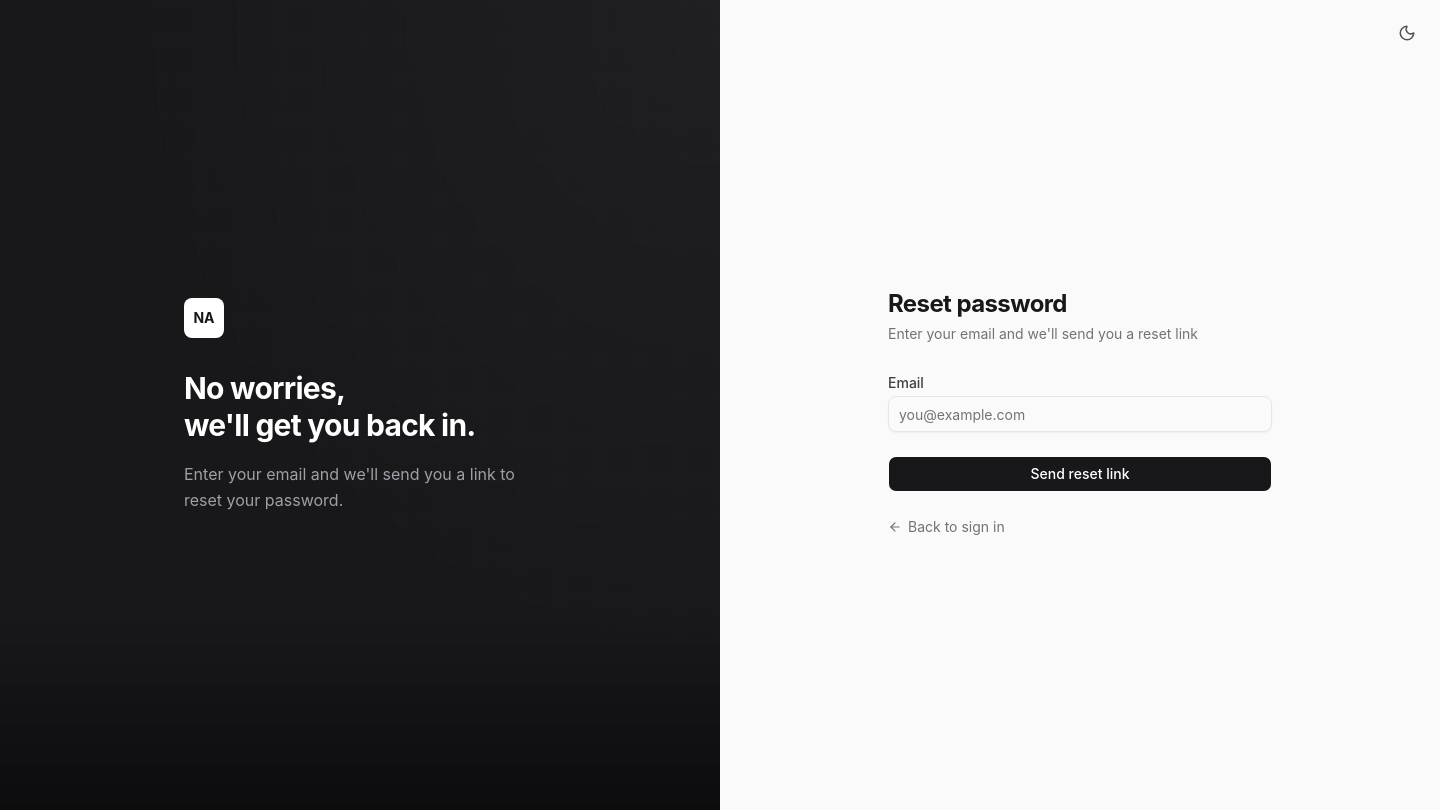
Scenario: ForgotPasswordForm › shows the backend's message when the request is refused
In the field labelled "Email": (1080,414) [888, 396, 1272, 432], type "ada@example.test"
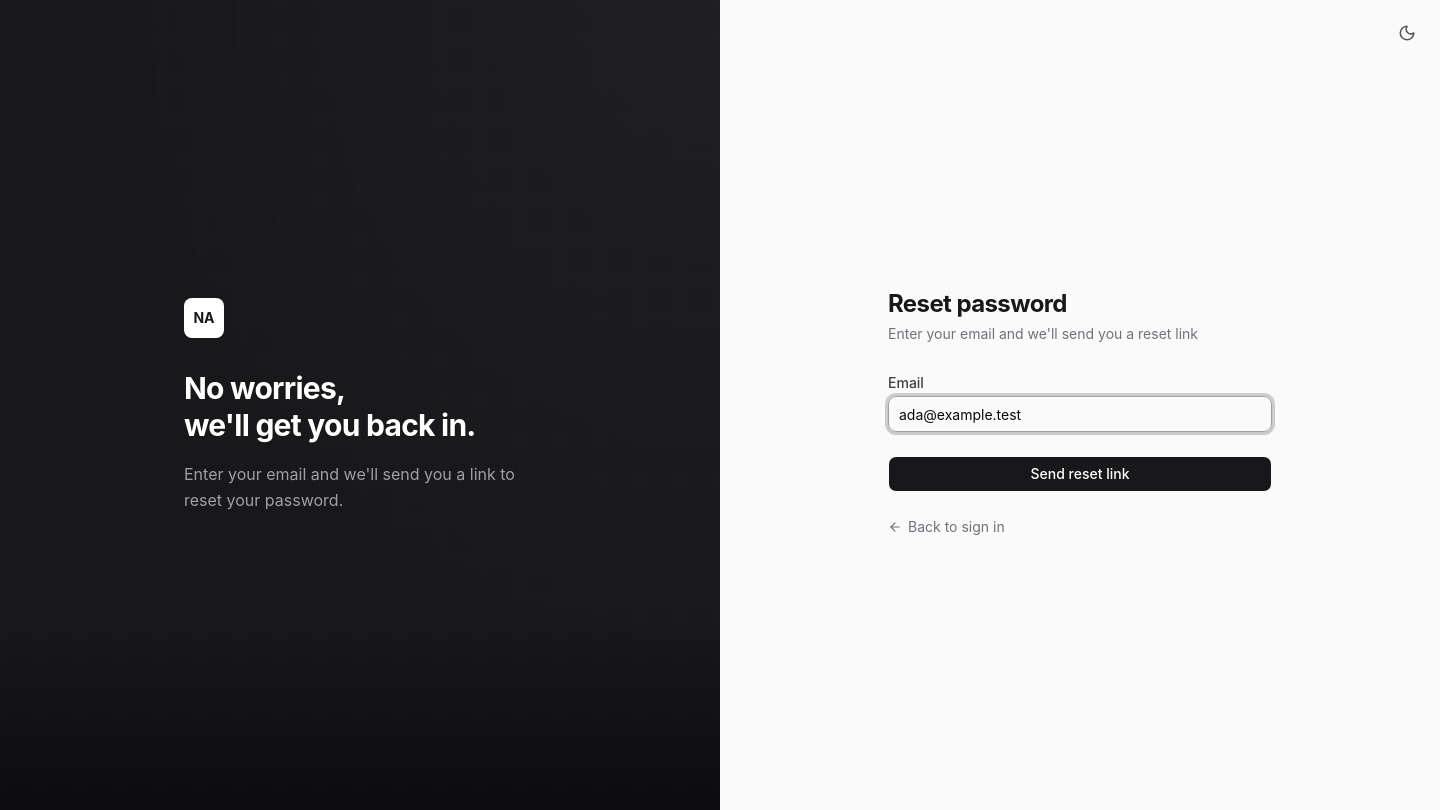
Click the button "Send reset link": (1080,474) [888, 456, 1272, 492]
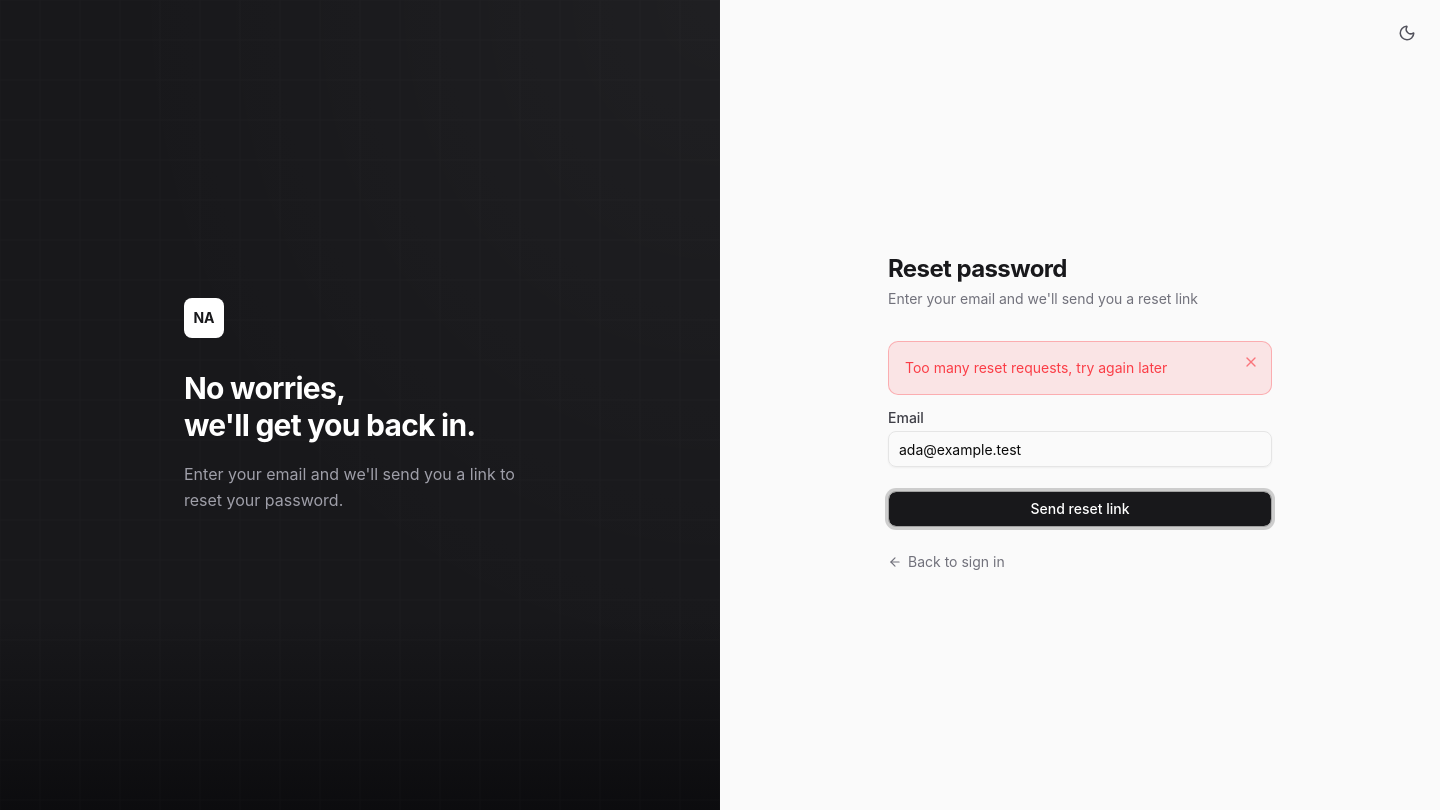
Now the text "Too many reset requests, try again later" is shown, box [905, 359, 1167, 376]
